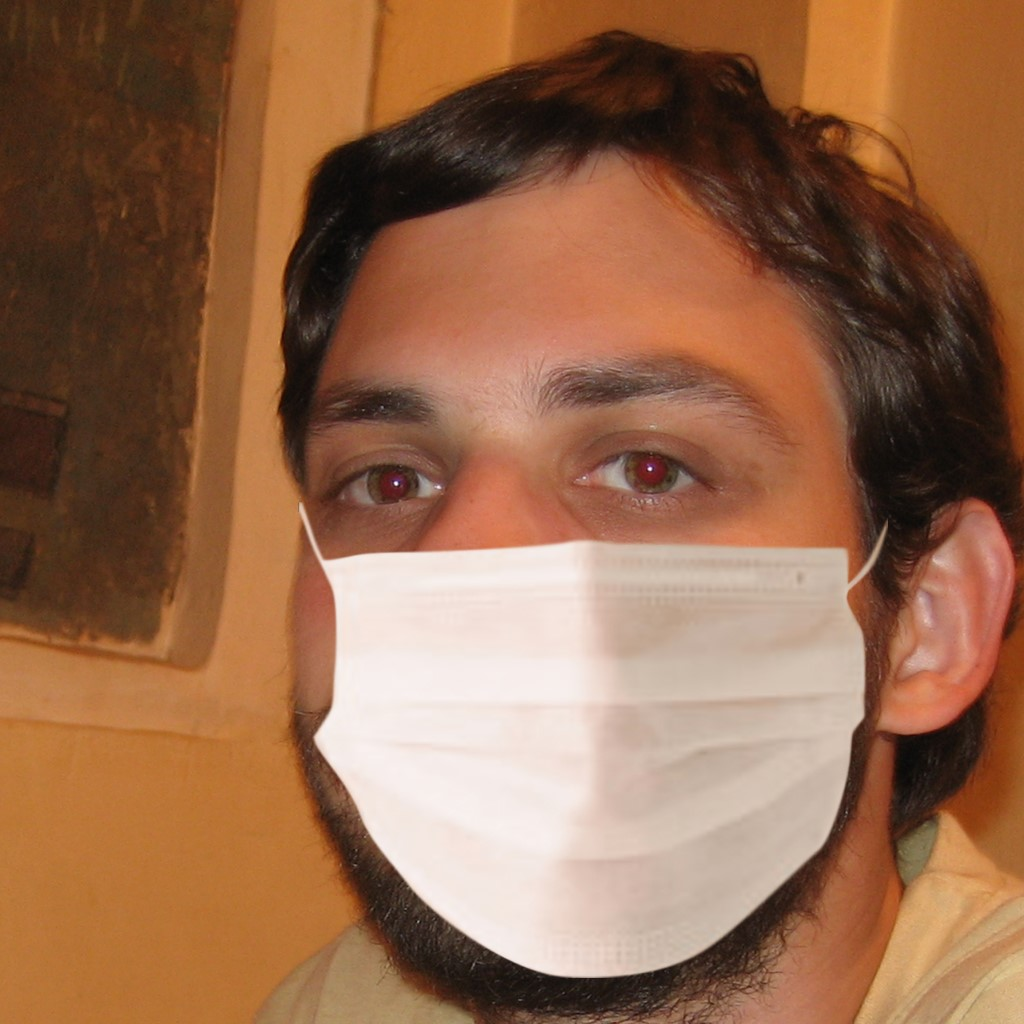con_mascara: (288, 143, 914, 1011)
